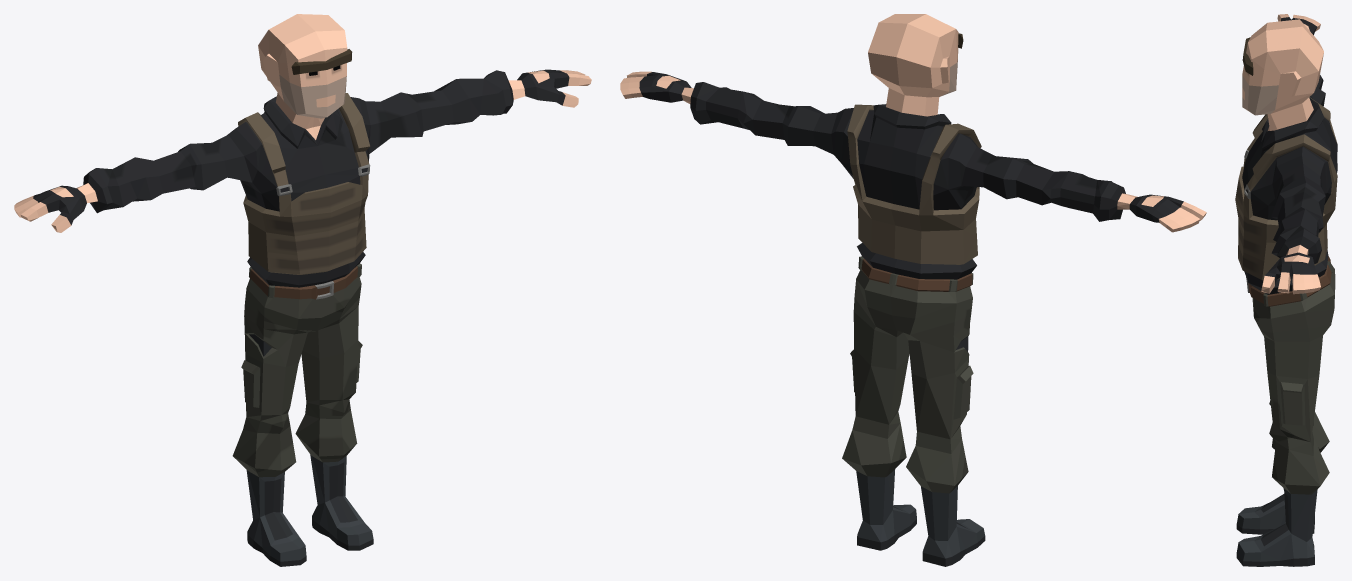
The model's file is SM_Chr_Insurgent_Male_01.fbx.
3 renders of one model, left to right at view 1: azimuth 30°, elevation 25°; view 2: azimuth 150°, elevation 25°; view 3: azimuth 270°, elevation 25°, orthographic. The views are drawn at different scales.
Parts seen in each view (by area): view 1: SM_Chr_Insurgent_Male_01; view 2: SM_Chr_Insurgent_Male_01; view 3: SM_Chr_Insurgent_Male_01.
Part boxes in pixels (x1,y1,x2,y2): SM_Chr_Insurgent_Male_01: [14, 14, 591, 566]; SM_Chr_Insurgent_Male_01: [620, 14, 1206, 566]; SM_Chr_Insurgent_Male_01: [1235, 14, 1337, 566].
Bounding box in the file's own units: 205 × 179 × 32.15.
